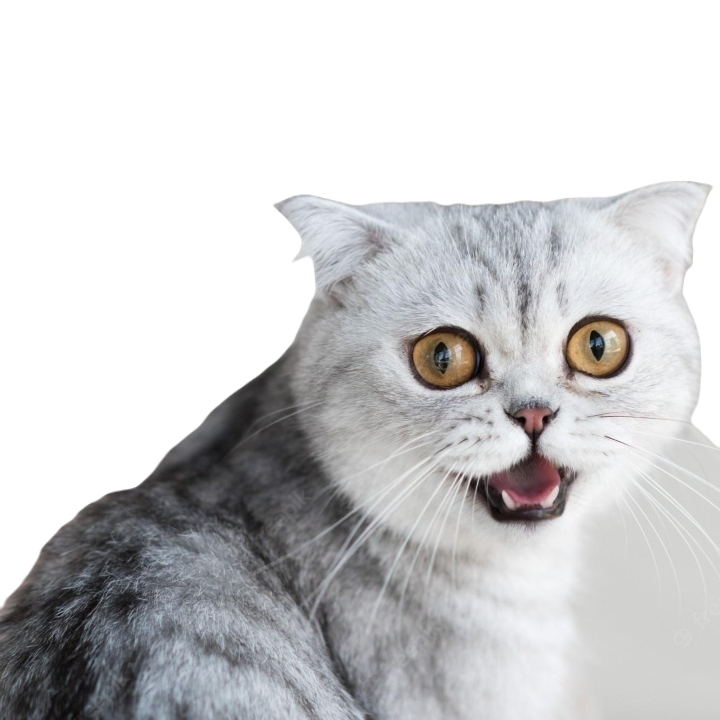Cat: (2, 185, 719, 715)
